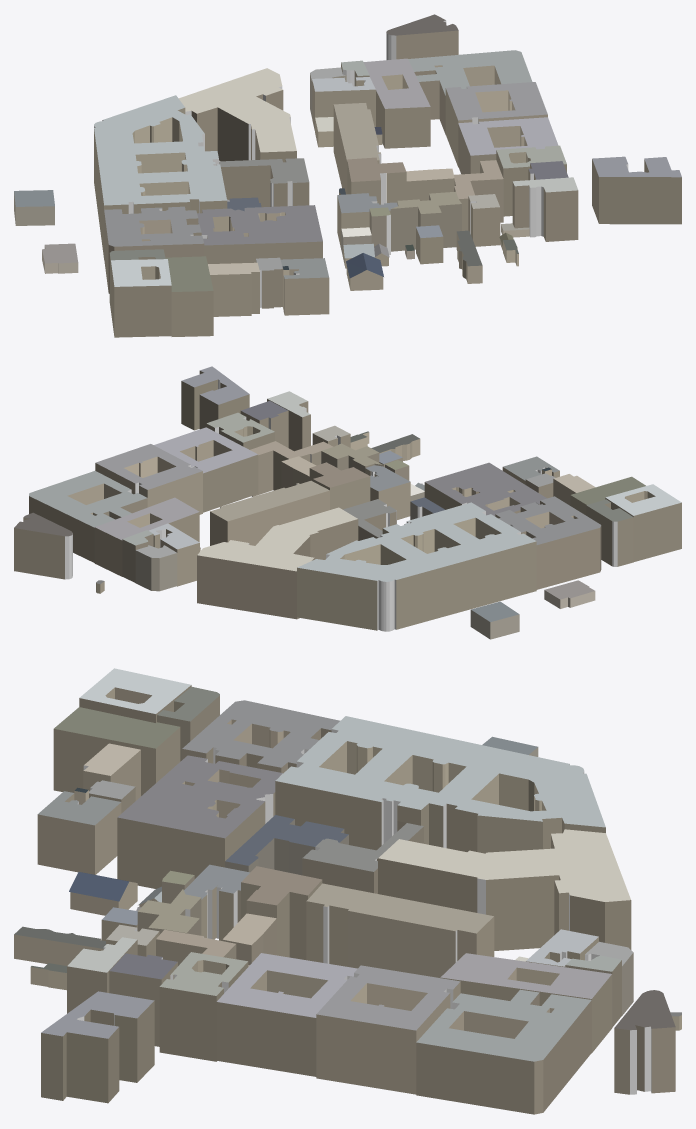
The picture shows the model from 3 angles, top to bottom: view 1: azimuth 30°, elevation 25°; view 2: azimuth 150°, elevation 25°; view 3: azimuth 270°, elevation 25°; orthographic projection. The views are drawn at different scales.
Parts seen in each view (by area): view 1: tuile; view 2: tuile; view 3: tuile.
Part boxes in pixels (x1=…): tuile: x1=14, y1=14, x2=681, y2=337; tuile: x1=14, y1=366, x2=681, y2=639; tuile: x1=14, y1=668, x2=681, y2=1114.
Bounding box in the file's own units: 270 × 27.2 × 204.
